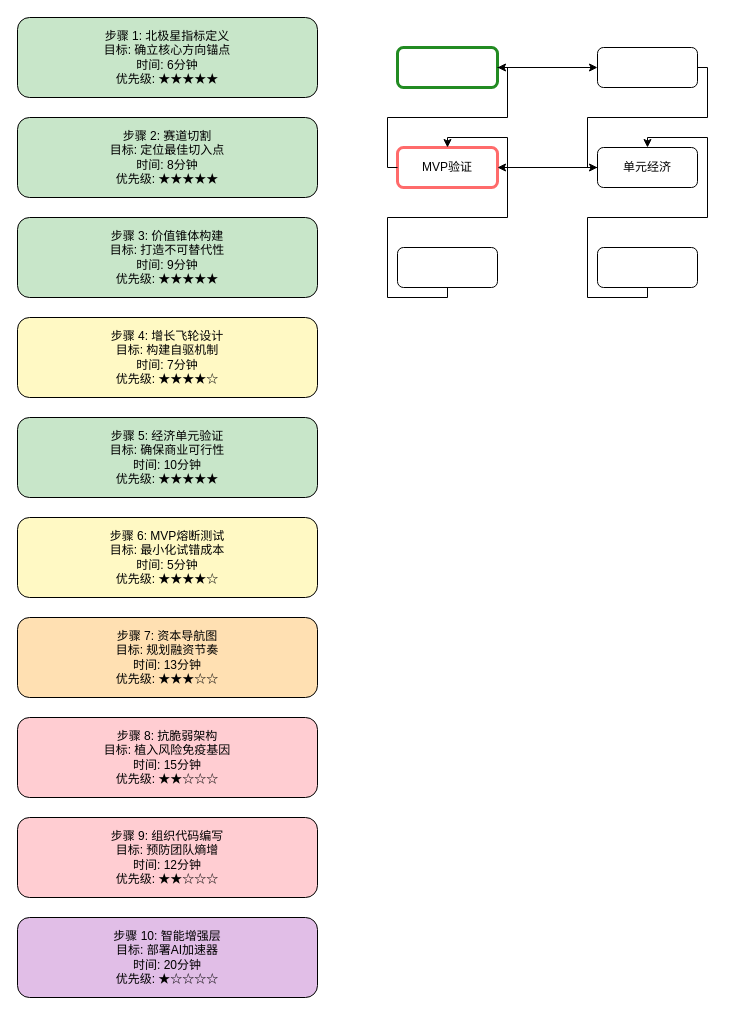
Some shapes in this 733 by 1015 pixel diagram are drawn without their labels. The shapes that lost their labels are listed below. From the top down, each one's centre as x and y in pixels, then its label:
the point at 447,67: 北极星指标
the point at 647,67: 价值锥体
the point at 447,267: 智能增强
the point at 647,267: 抗脆弱架构
